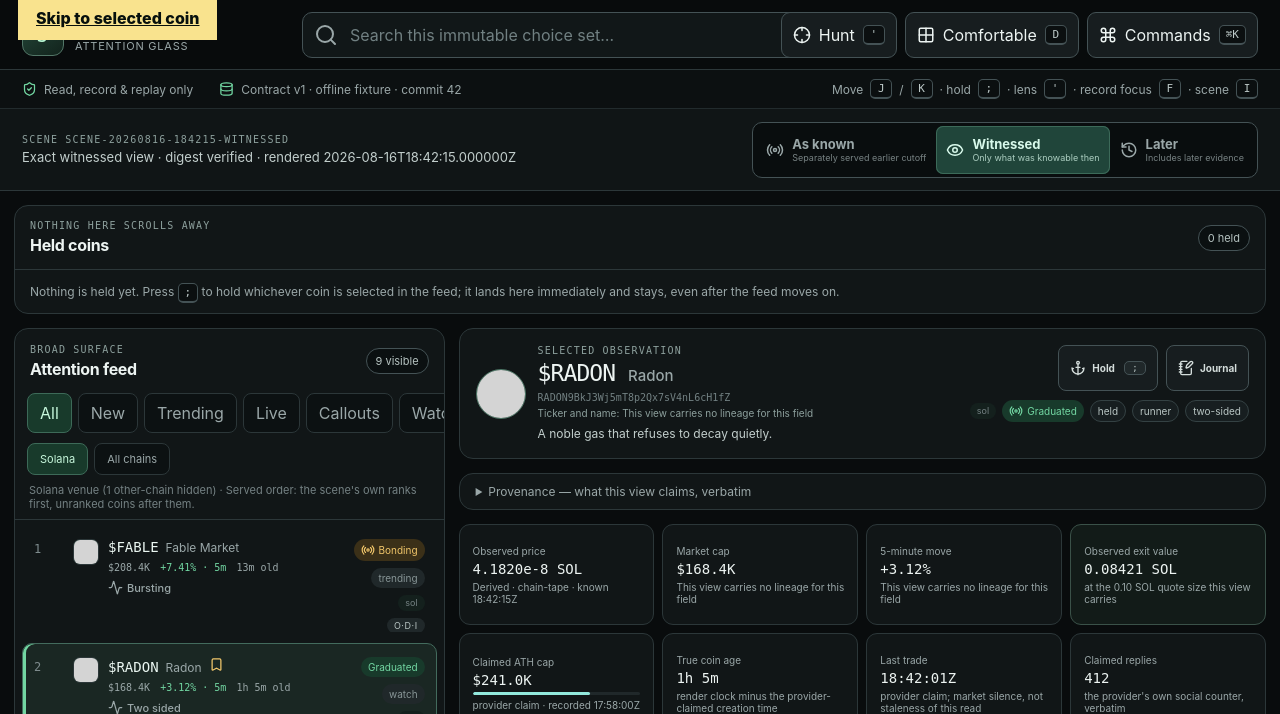
Scenario: accessibility-first glass › loads mode changes as distinct snapshot requests bound to the witnessed scene
expect the heading "$RADON Radon" is shown: met, box [538, 360, 674, 386]
Click the radio button labelled "Later Includes later evidence" at (1182, 150), box [1110, 126, 1254, 174]
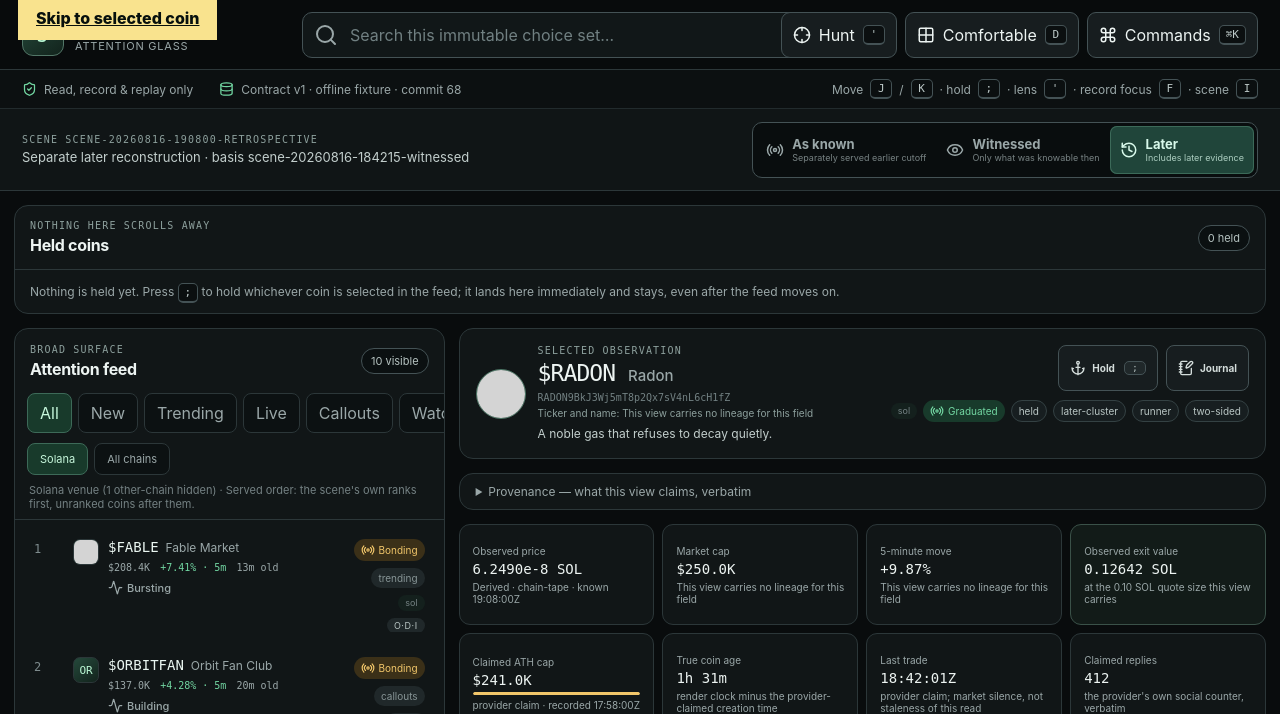
expect the text "Separate later reconstruction" is shown: met, box [22, 149, 469, 165]
